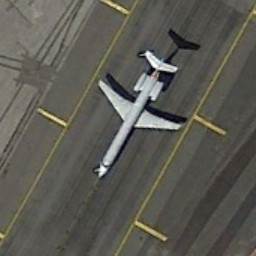Airplane: (90, 41, 188, 184)
